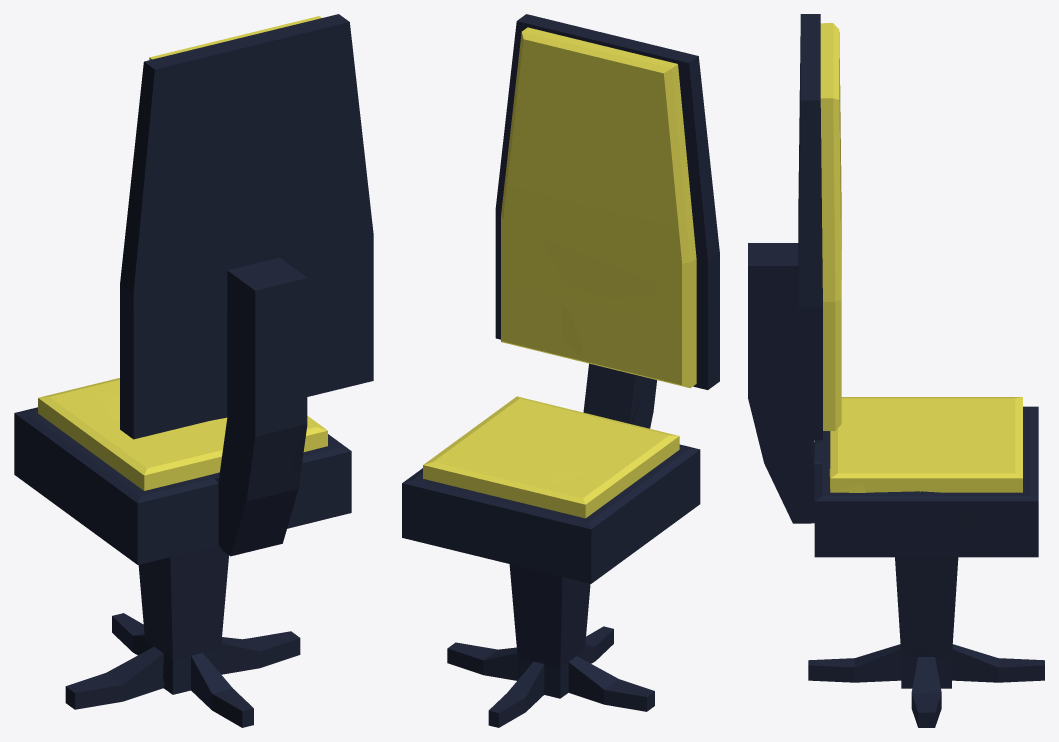
Rendered from Office Chair Secretary.fbx.
3 views of the same model, side by side, from view 1: azimuth 30°, elevation 25°; view 2: azimuth 150°, elevation 25°; view 3: azimuth 270°, elevation 25° (orthographic). The views are drawn at different scales.
Visible parts, largest first — view 1: Office Chair.001, Office Chair.001_cell.029, Office Chair.001_cell.099, Office Chair.001_cell.045, Office Chair.001_cell.122, Office Chair.001_cell.034, Office Chair.001_cell.152, Office Chair.001_cell.116, Office Chair.001_cell.128, Office Chair.001_cell.096, Office Chair.001_cell.117, Office Chair.001_cell.033 (+17 smaller); view 2: Office Chair.001, Office Chair.001_cell.116, Office Chair.001_cell.113, Office Chair.001_cell.118, Office Chair.001_cell.056, Office Chair.001_cell.008, Office Chair.001_cell.137, Office Chair.001_cell.133, Office Chair.001_cell.069, Office Chair.001_cell.038, Office Chair.001_cell.102, Office Chair.001_cell.129 (+7 smaller); view 3: Office Chair.001, Office Chair.001_cell.140, Office Chair.001_cell.085, Office Chair.001_cell.137, Office Chair.001_cell.113, Office Chair.001_cell.133, Office Chair.001_cell.102, Office Chair.001_cell.114, Office Chair.001_cell.018, Office Chair.001_cell.063, Office Chair.001_cell.135, Office Chair.001_cell.105 (+8 smaller).
Part boxes in pixels (x1=…): Office Chair.001: x1=14, y1=14, x2=373, y2=727; Office Chair.001_cell.029: x1=178, y1=140, x2=372, y2=269; Office Chair.001_cell.099: x1=225, y1=30, x2=352, y2=141; Office Chair.001_cell.045: x1=136, y1=53, x2=225, y2=192; Office Chair.001_cell.122: x1=255, y1=232, x2=373, y2=426; Office Chair.001_cell.034: x1=120, y1=184, x2=183, y2=348; Office Chair.001_cell.152: x1=133, y1=321, x2=204, y2=421; Office Chair.001_cell.116: x1=170, y1=257, x2=313, y2=363; Office Chair.001_cell.128: x1=232, y1=384, x2=303, y2=496; Office Chair.001_cell.096: x1=317, y1=245, x2=373, y2=374; Office Chair.001_cell.117: x1=152, y1=129, x2=244, y2=220; Office Chair.001_cell.033: x1=160, y1=462, x2=268, y2=530; Office Chair.001: x1=402, y1=14, x2=719, y2=727; Office Chair.001_cell.116: x1=537, y1=237, x2=657, y2=299; Office Chair.001_cell.113: x1=448, y1=463, x2=550, y2=507; Office Chair.001_cell.118: x1=550, y1=465, x2=652, y2=568; Office Chair.001_cell.056: x1=516, y1=624, x2=583, y2=682; Office Chair.001_cell.008: x1=514, y1=585, x2=561, y2=642; Office Chair.001_cell.137: x1=431, y1=440, x2=517, y2=463; Office Chair.001_cell.133: x1=509, y1=564, x2=550, y2=617; Office Chair.001_cell.069: x1=506, y1=655, x2=568, y2=714; Office Chair.001_cell.038: x1=503, y1=480, x2=571, y2=572; Office Chair.001_cell.102: x1=402, y1=460, x2=462, y2=548; Office Chair.001_cell.129: x1=464, y1=521, x2=509, y2=557; Office Chair.001: x1=748, y1=14, x2=1044, y2=727; Office Chair.001_cell.140: x1=760, y1=449, x2=830, y2=523; Office Chair.001_cell.085: x1=799, y1=141, x2=834, y2=279; Office Chair.001_cell.137: x1=939, y1=441, x2=1011, y2=517; Office Chair.001_cell.113: x1=974, y1=420, x2=1038, y2=473; Office Chair.001_cell.133: x1=904, y1=557, x2=956, y2=628; Office Chair.001_cell.102: x1=991, y1=467, x2=1038, y2=557; Office Chair.001_cell.114: x1=925, y1=420, x2=976, y2=458; Office Chair.001_cell.018: x1=920, y1=489, x2=993, y2=557; Office Chair.001_cell.063: x1=840, y1=646, x2=944, y2=688; Office Chair.001_cell.135: x1=844, y1=490, x2=925, y2=557; Office Chair.001_cell.105: x1=814, y1=469, x2=865, y2=523.
Size of the model in its own units: 61.06 by 166 by 71.98.
